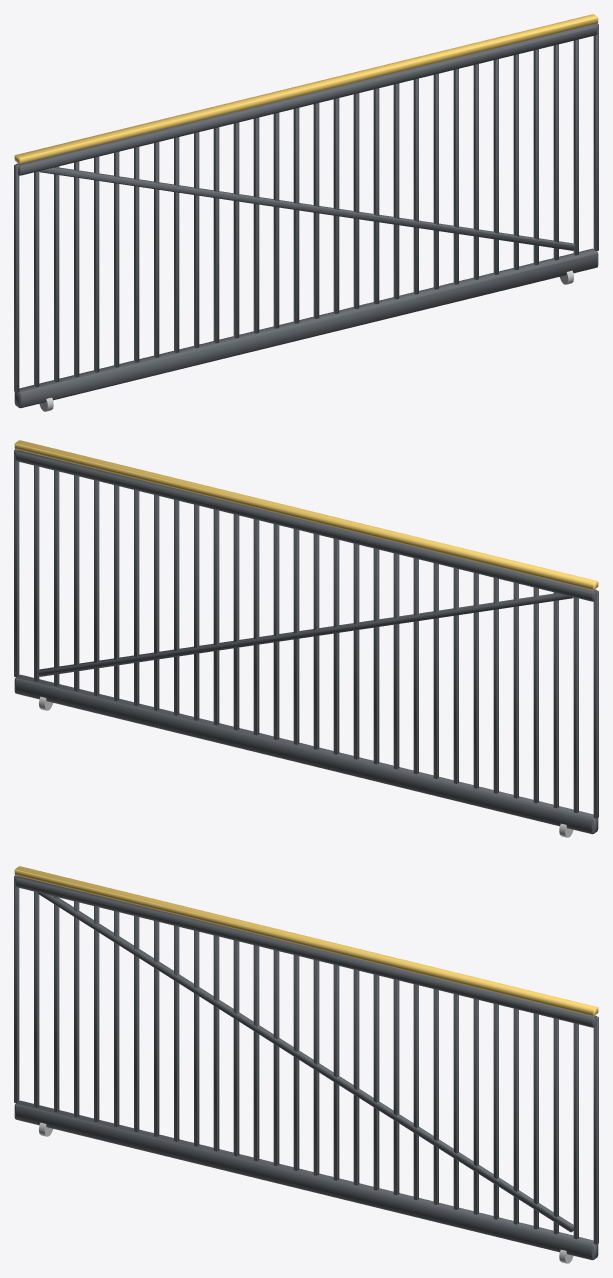
The model's file is gate_leaf_6.glb.
3 renders of one model, top to bottom at view 1: azimuth 30°, elevation 25°; view 2: azimuth 150°, elevation 25°; view 3: azimuth 330°, elevation 25°, orthographic.
Parts seen in each view (by area): view 1: Body; view 2: Body; view 3: Body.
Boxes of the visible parts, x1,y1,x2,y2 form: Body: (14,14,598,411); Body: (14,440,598,837); Body: (14,866,598,1263).
Bounding box in the file's own units: 5.92 × 2.53 × 0.16.
